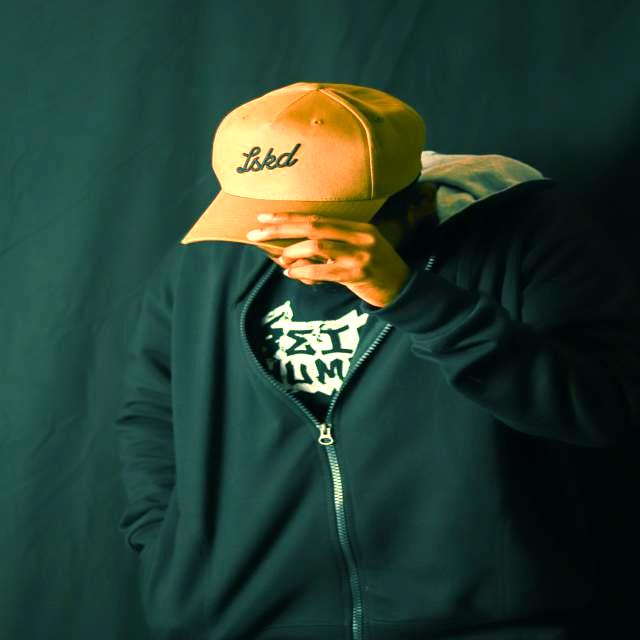no_hard_hat: (182, 83, 422, 243)
person: (118, 83, 638, 640)
